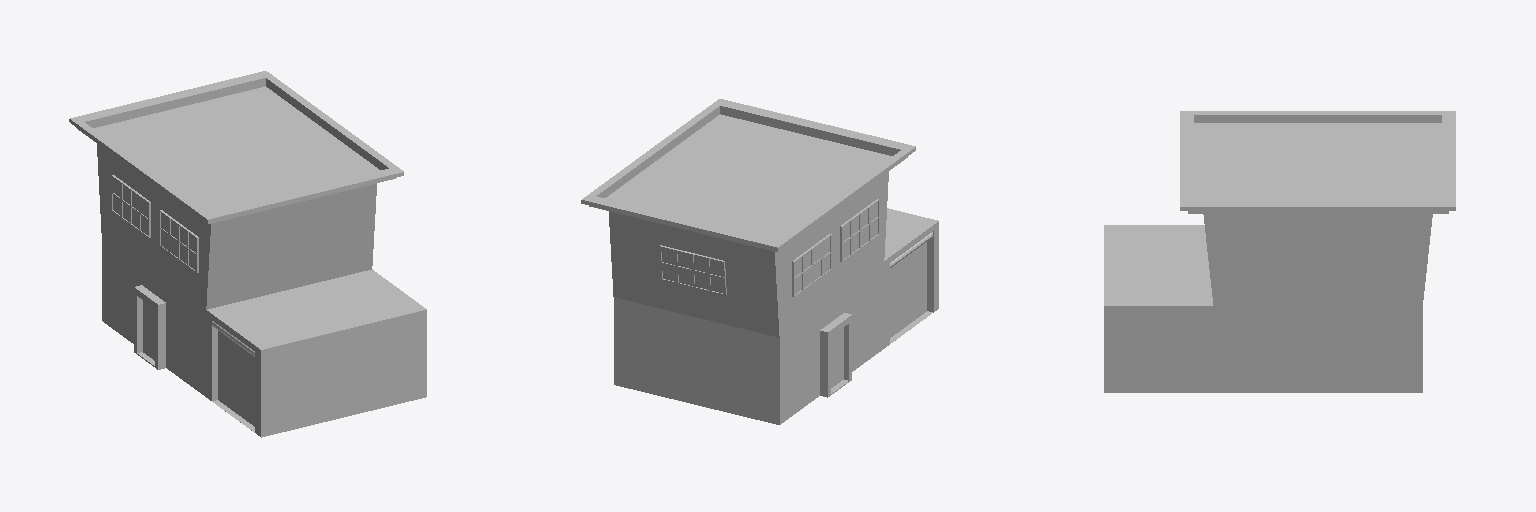
Rendered from Building 002.obj.
The picture shows the model from 3 angles: view 1: azimuth 30°, elevation 25°; view 2: azimuth 150°, elevation 25°; view 3: azimuth 270°, elevation 25°; orthographic projection.
Visible parts, largest first — view 1: Cube_Cube.001, Window_Cube.002, Window.001_Cube.003; view 2: Cube_Cube.001, Window.002_Cube.004, Window.001_Cube.003, Window_Cube.002; view 3: Cube_Cube.001.
Part boxes in pixels (x1,y1,x2,y2): Cube_Cube.001: (69, 71, 426, 437); Window_Cube.002: (160, 210, 198, 272); Window.001_Cube.003: (112, 175, 150, 237); Cube_Cube.001: (581, 99, 938, 424); Window.002_Cube.004: (659, 245, 726, 294); Window.001_Cube.003: (792, 234, 831, 296); Window_Cube.002: (840, 199, 878, 261); Cube_Cube.001: (1104, 111, 1455, 392).
Size of the model in its own units: 4.7 by 4.42 by 7.3.